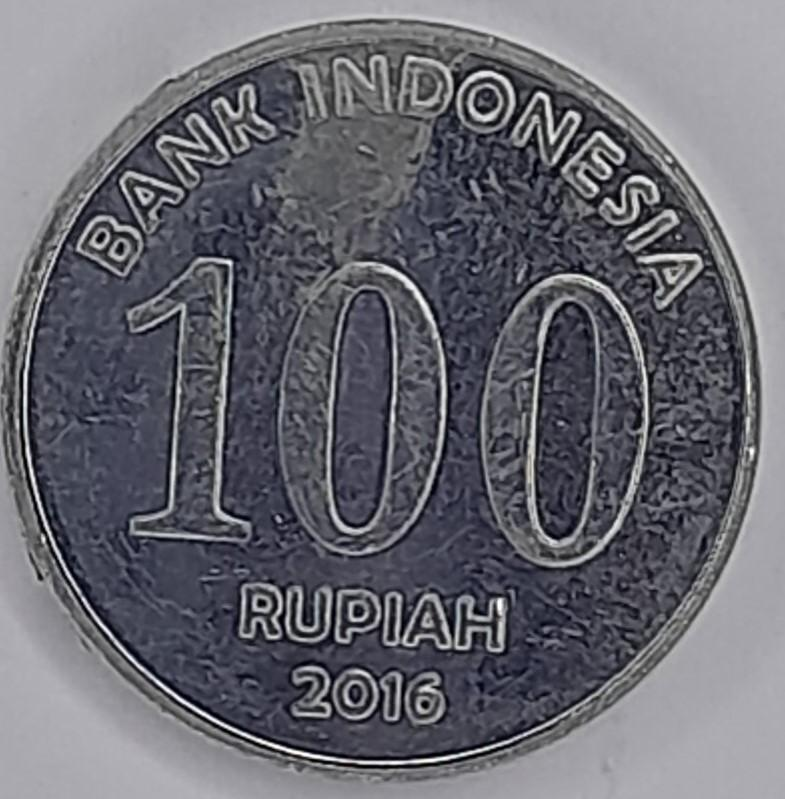coin_100_e2016: (0, 10, 767, 783)
